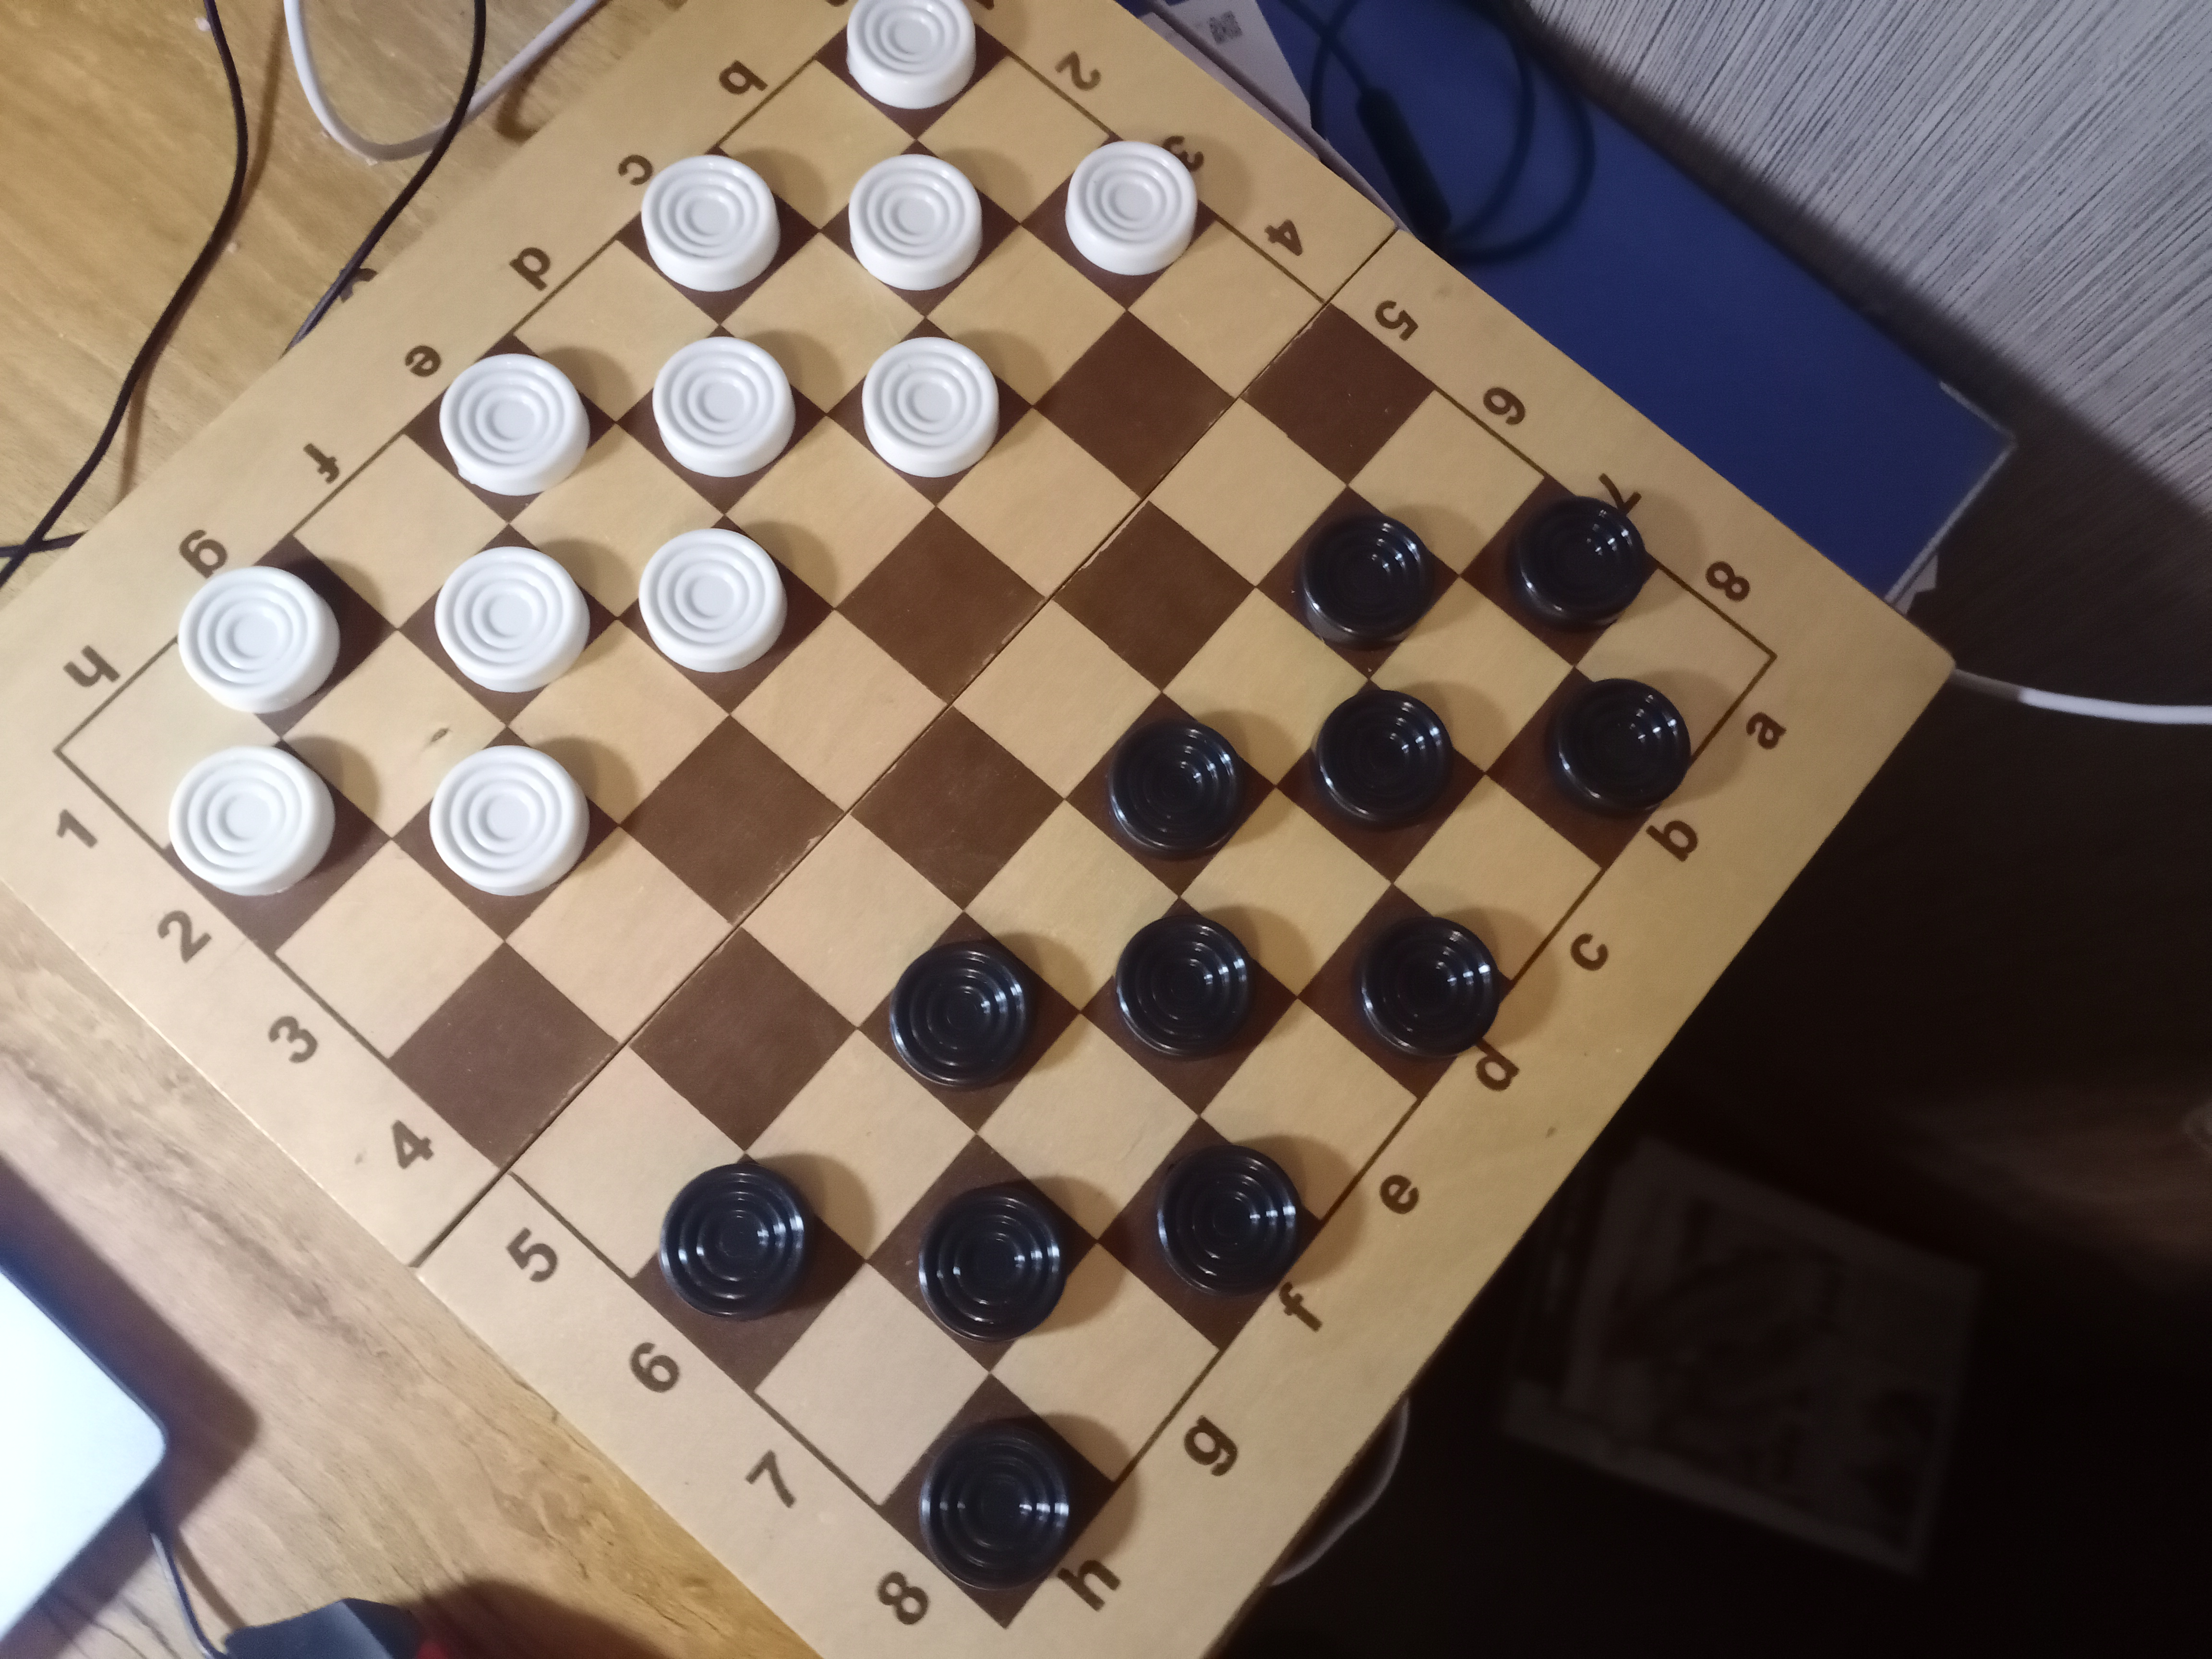Black_Draught: (881, 1375, 1116, 1633), (627, 1152, 867, 1394), (867, 1136, 1097, 1375), (1097, 1115, 1324, 1351), (855, 911, 1082, 1136), (1083, 896, 1298, 1117), (1298, 884, 1515, 1100), (1064, 692, 1277, 896), (1277, 680, 1486, 884), (1486, 666, 1689, 866), (1254, 484, 1460, 681), (1460, 477, 1658, 666)
